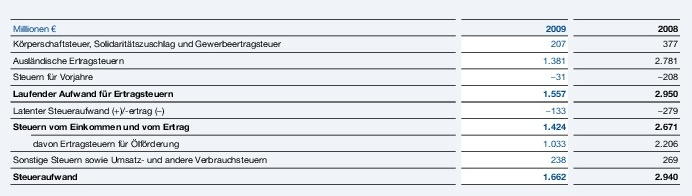table: (0, 0, 692, 196)
